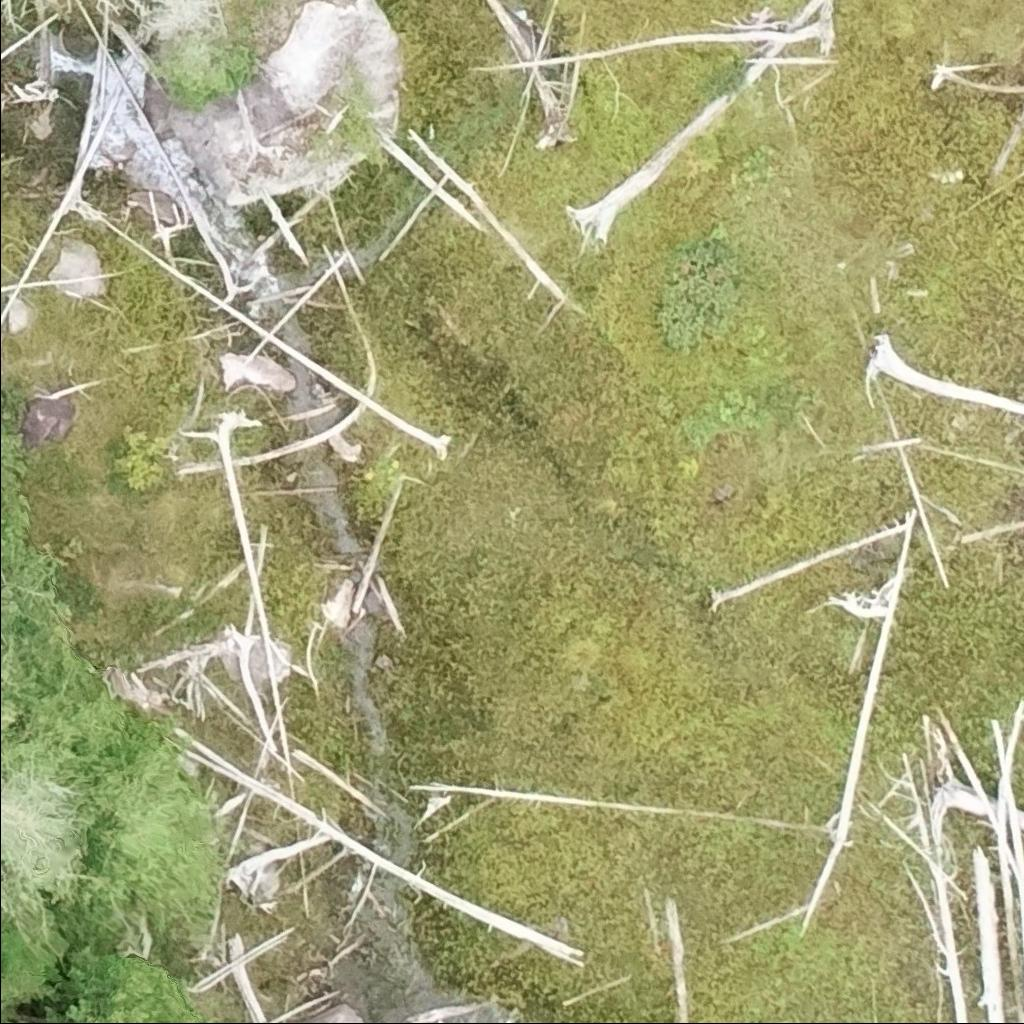crown: (61, 721, 217, 935), (43, 944, 204, 1023), (0, 972, 60, 1023), (0, 618, 9, 684), (0, 701, 17, 733)
